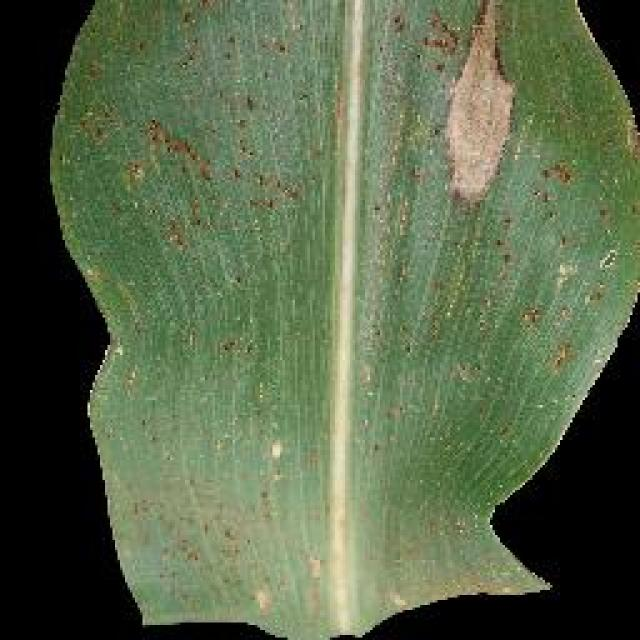Corn Common Rust: (163, 101, 545, 526)
